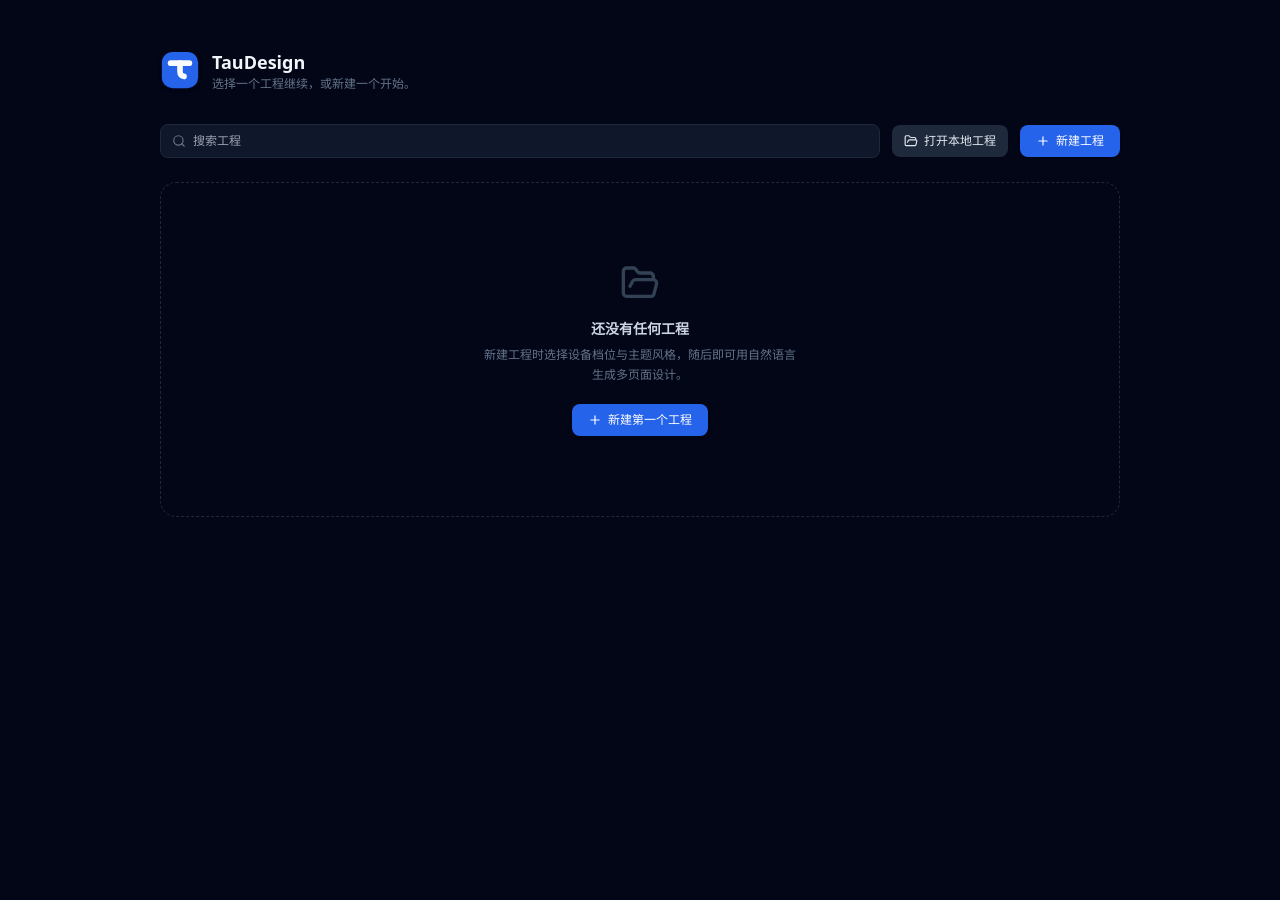
it: 折叠面板展开状态随工程持久化 (PRD §3.0.3) › 未记录过的面板回落到 defaultOpen（新增面板无需数据迁移）
Click the button "新建第一个工程": [640, 420] box left=572, top=404, right=708, bottom=436
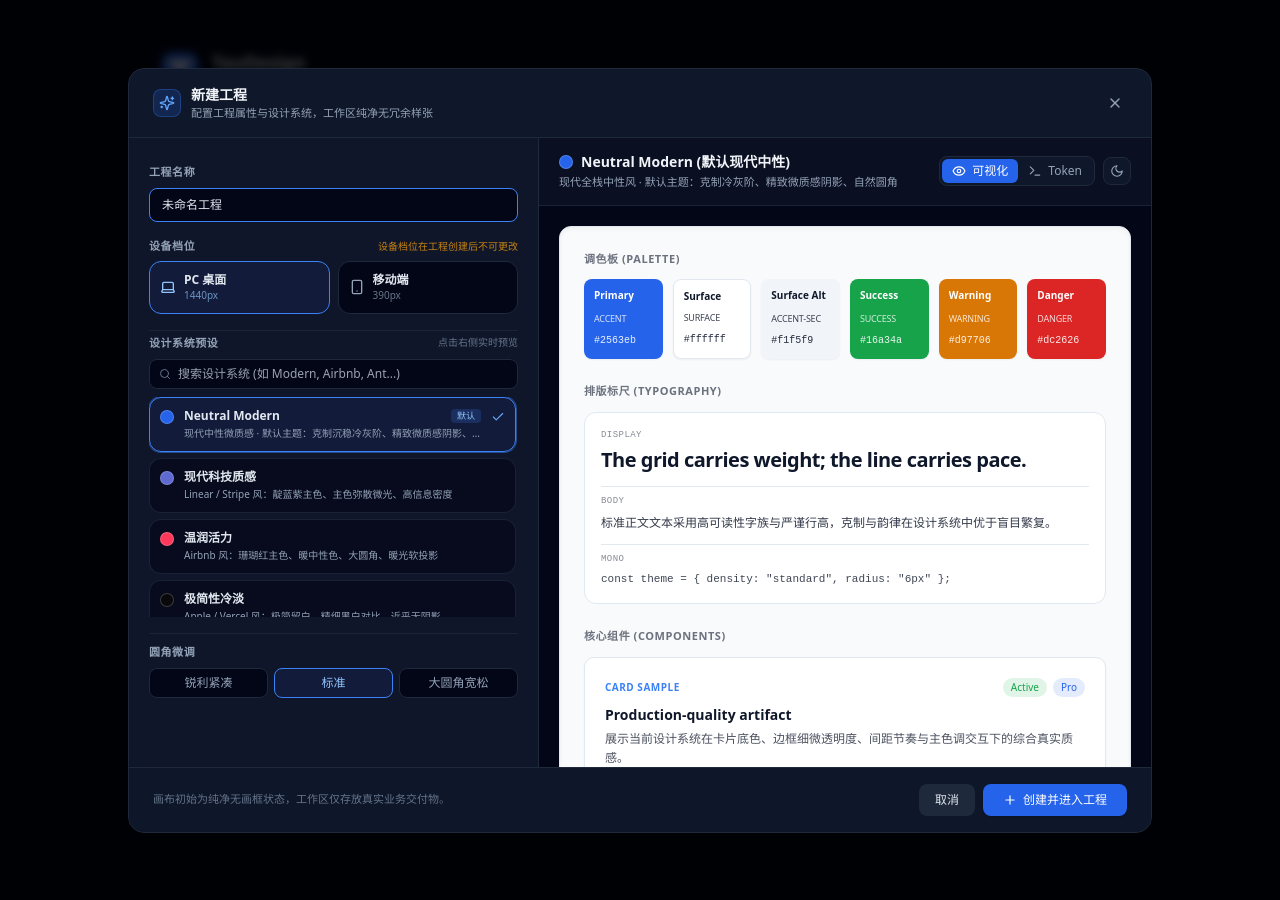
Expected: the button "创建并进入工程" is shown
Click the button "创建并进入工程": [1055, 800] box left=983, top=784, right=1127, bottom=816
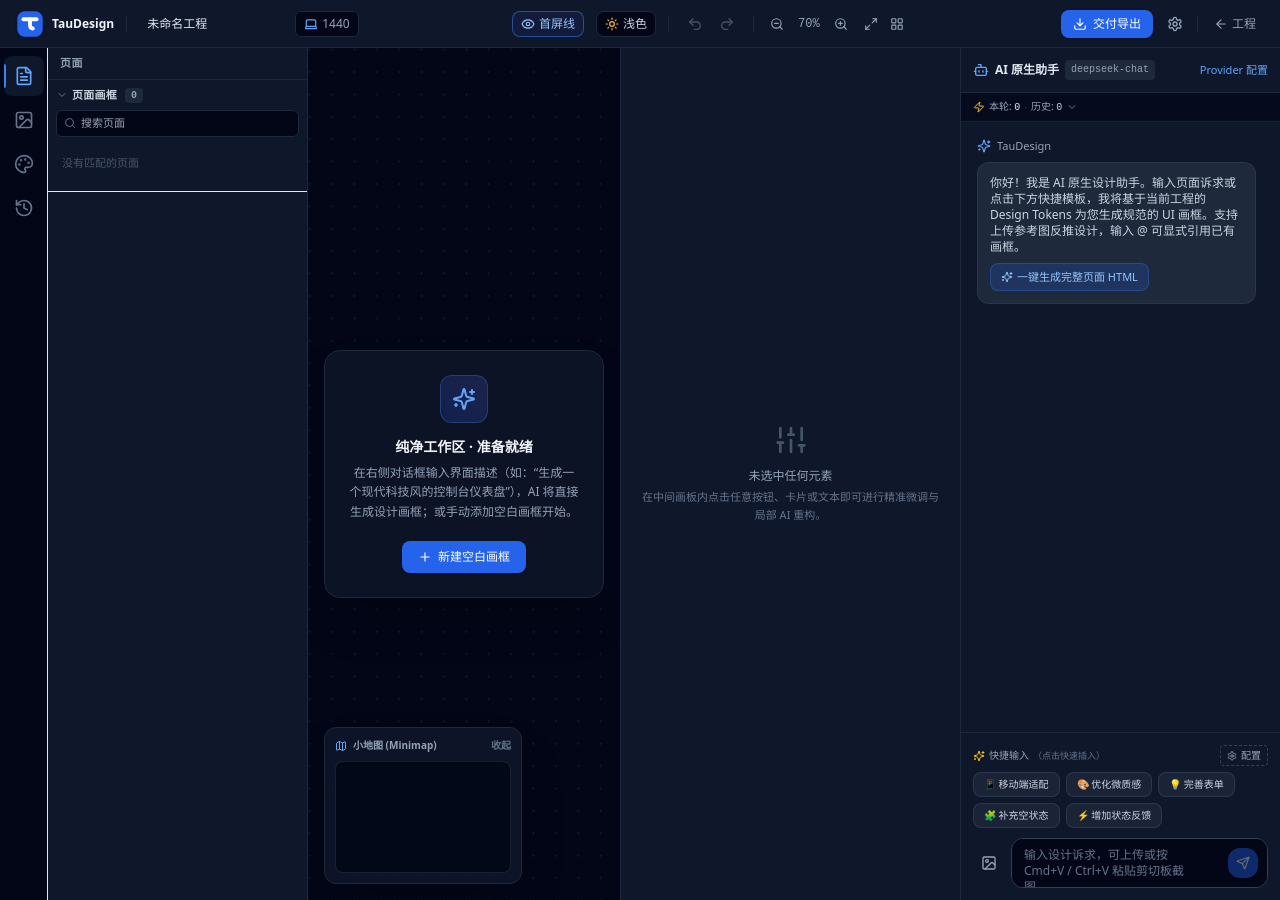
Click the button named "设计系统": [24, 164] box left=4, top=144, right=44, bottom=184
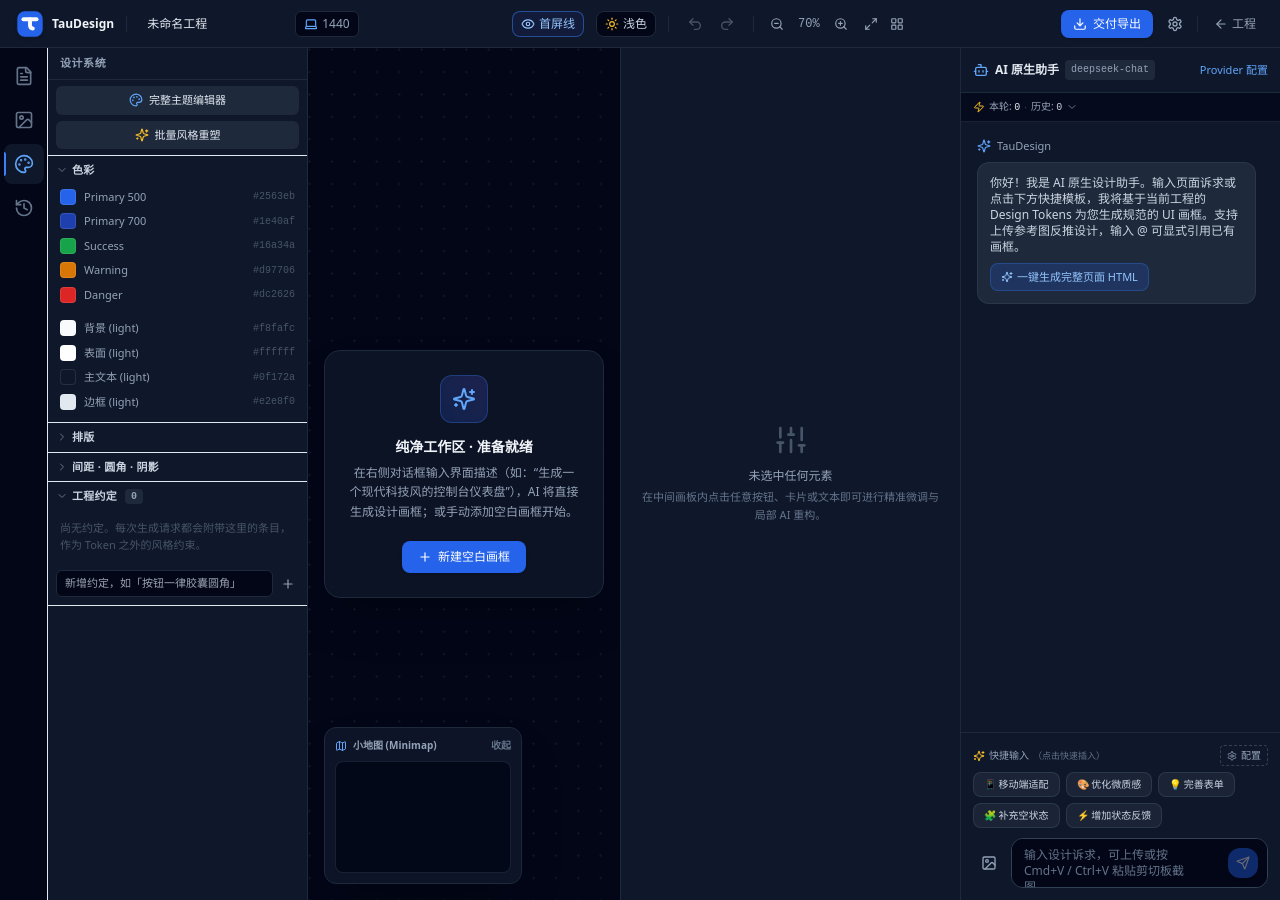
Expected: the text "Primary 500" is shown, left=84, top=188, right=146, bottom=204
